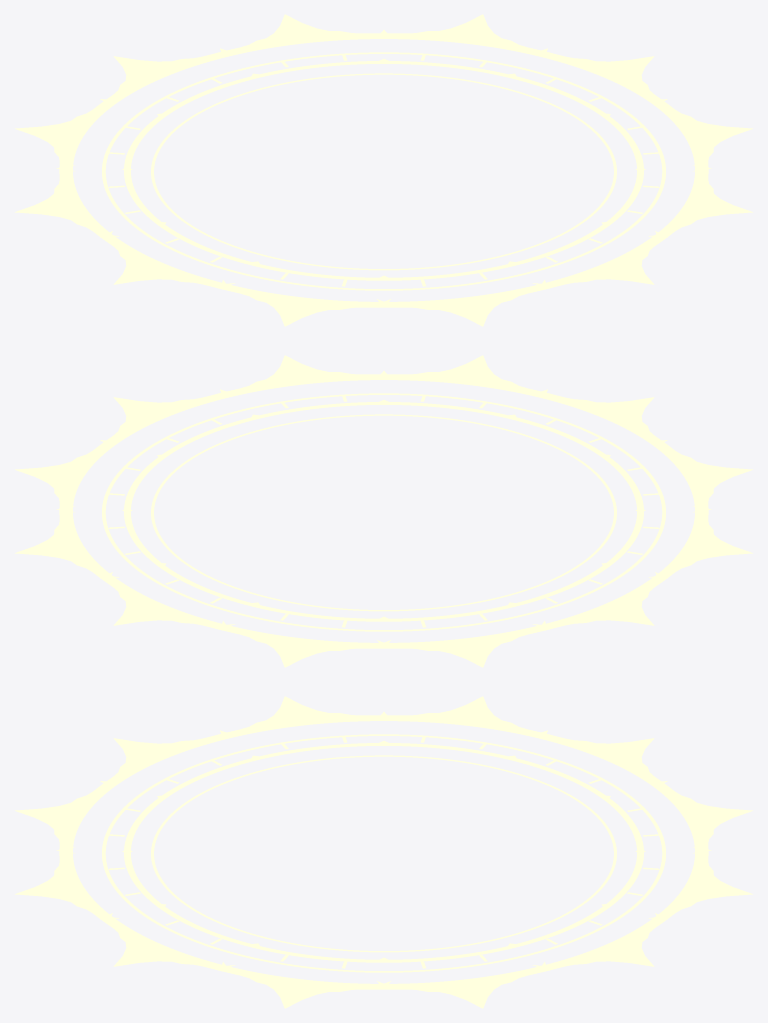
File: prop-select-ring.glb
3 views of the same model, one above another, from view 1: azimuth 30°, elevation 25°; view 2: azimuth 150°, elevation 25°; view 3: azimuth 270°, elevation 25° (orthographic).
Visible parts, largest first — view 1: select-ring; view 2: select-ring; view 3: select-ring.
Part boxes in pixels (bbox=[...]): select-ring: bbox=[15, 14, 752, 326]; select-ring: bbox=[15, 355, 752, 667]; select-ring: bbox=[15, 696, 752, 1008].
Size of the model in its own units: 1.91 by 0.01 by 1.91.
